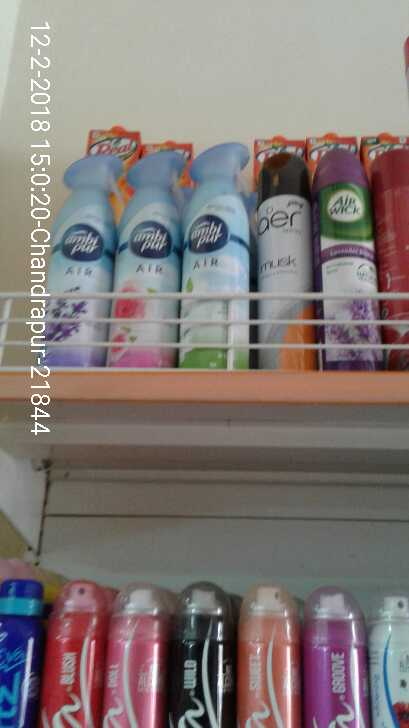home: (183, 144, 255, 371), (115, 145, 183, 363), (48, 148, 115, 367)
